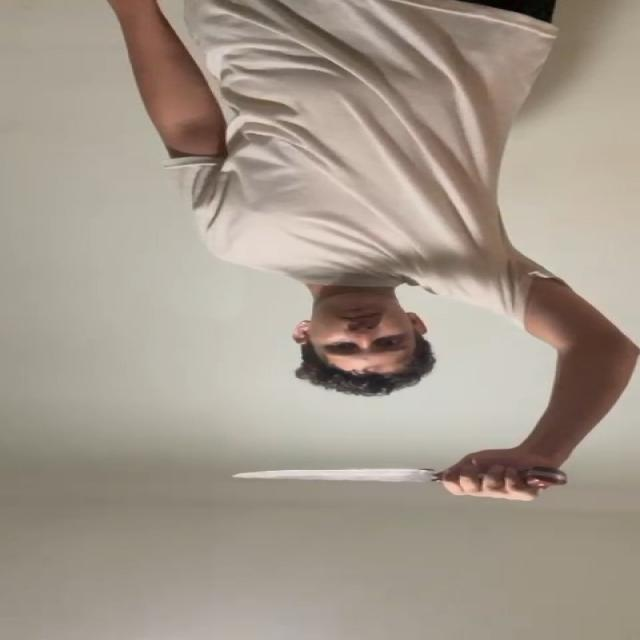knife: (234, 469, 438, 482)
